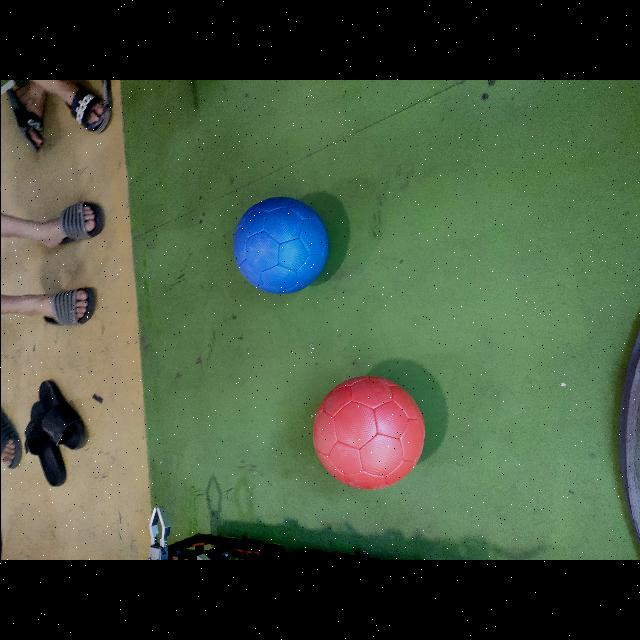B: (232, 197, 327, 293)
R: (312, 377, 425, 490)
